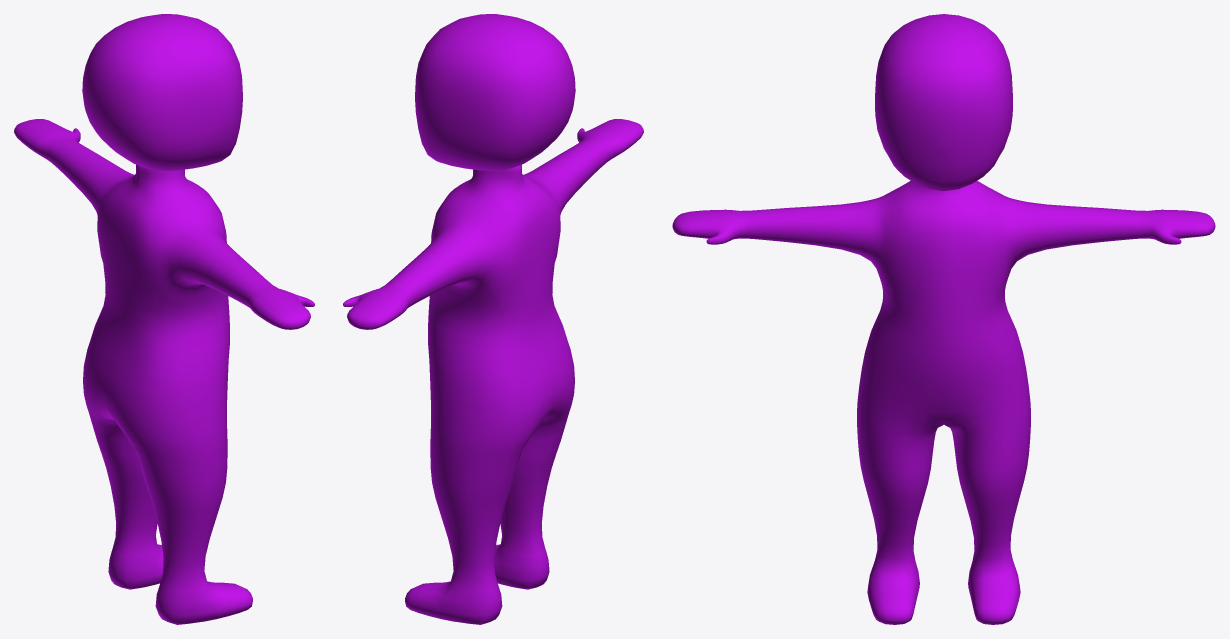
The model's file is Charakter_01.fbx.
3 renders of one model, left to right at view 1: azimuth 30°, elevation 25°; view 2: azimuth 150°, elevation 25°; view 3: azimuth 270°, elevation 25°, orthographic.
Parts seen in each view (by area): view 1: Body.001, Head.001; view 2: Body.001, Head.001; view 3: Body.001, Head.001.
Part boxes in pixels (x1,y1,x2,y2): Body.001: (14, 119, 314, 624); Head.001: (82, 14, 242, 170); Body.001: (343, 119, 643, 624); Head.001: (415, 14, 575, 170); Body.001: (672, 180, 1215, 624); Head.001: (875, 14, 1012, 191).
Bounding box in the file's own units: 46.18 × 184 × 158.
